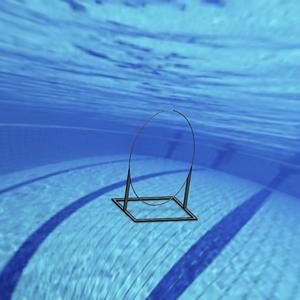circle: (111, 107, 199, 224)
